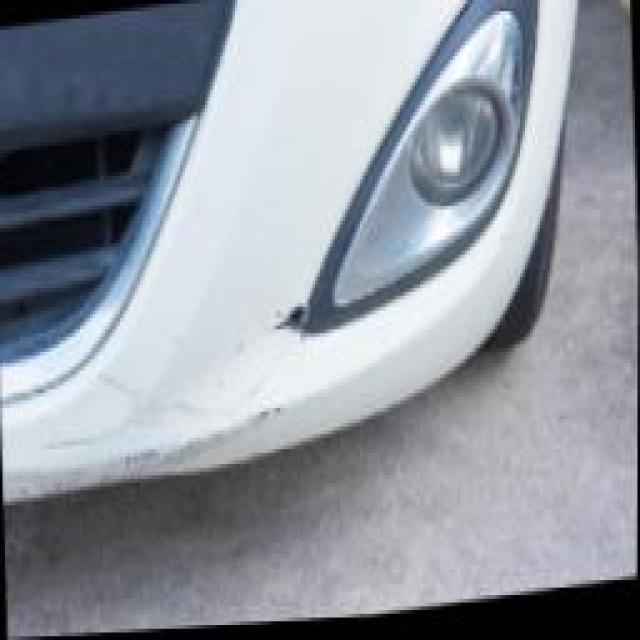Bumper: (2, 281, 328, 504)
